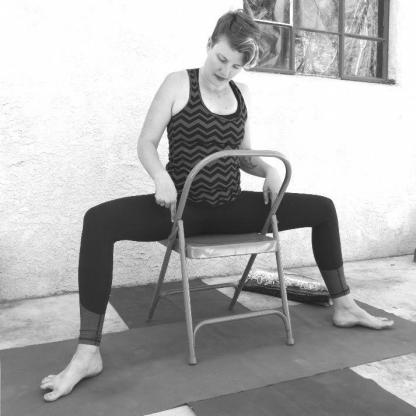godness: (37, 6, 402, 408)
